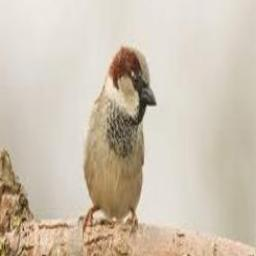Sparrow: (79, 46, 157, 240)
